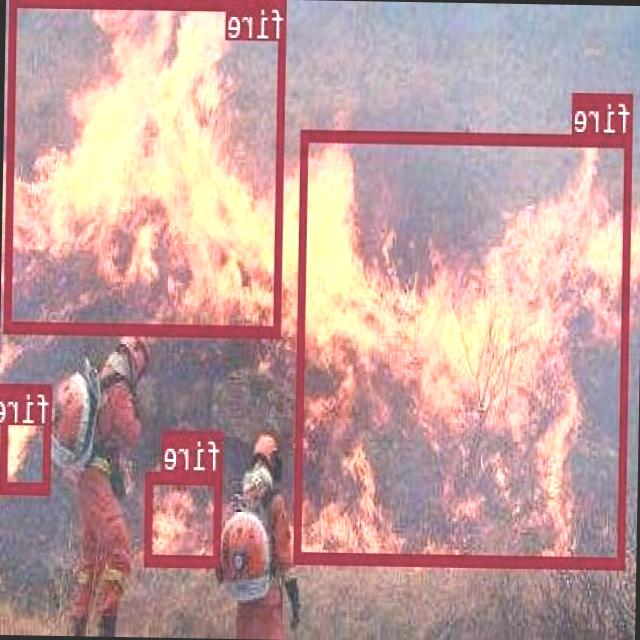fire: (296, 128, 633, 566), (5, 0, 287, 333), (146, 471, 223, 563), (0, 382, 52, 492)
